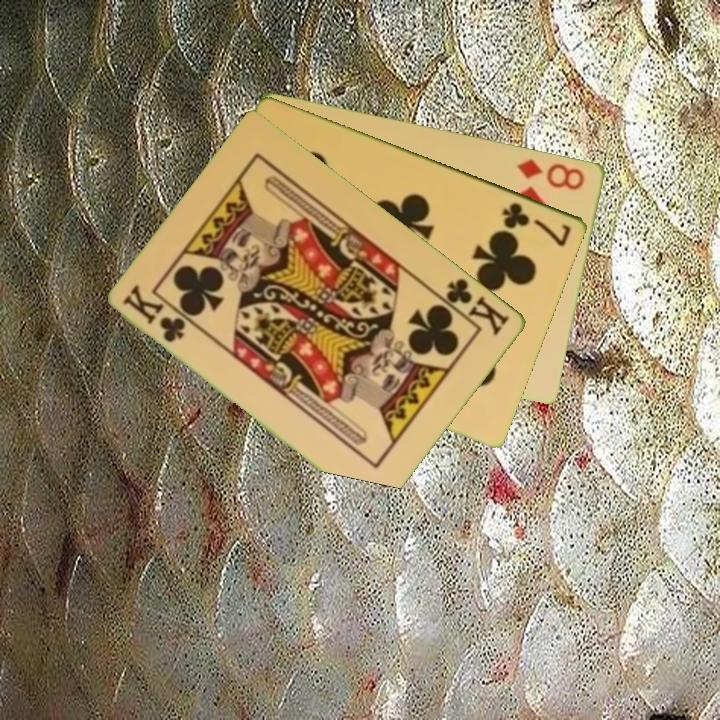7c: (498, 198, 575, 250)
8d: (514, 155, 588, 193)
Kc: (433, 274, 513, 338), (119, 282, 190, 346)
